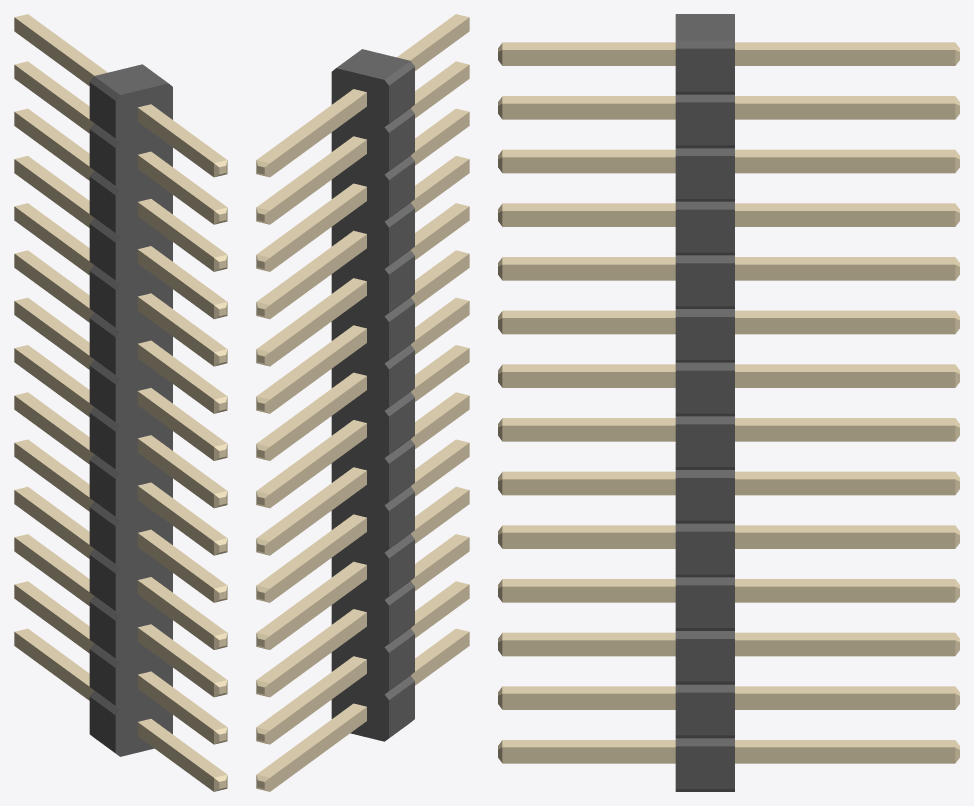
File: PinHeader_1x14_P1.00mm_Vertical.glb
3 renders of one model, left to right at view 1: azimuth 30°, elevation 25°; view 2: azimuth 150°, elevation 25°; view 3: azimuth 270°, elevation 25°, orthographic. The views are drawn at different scales.
Parts seen in each view (by area): view 1: Shape_IndexedFaceSet.003, Shape_IndexedFaceSet.001, Shape_IndexedFaceSet.160, Shape_IndexedFaceSet.104, Shape_IndexedFaceSet.155, Shape_IndexedFaceSet.179, Shape_IndexedFaceSet.197, Shape_IndexedFaceSet.147, Shape_IndexedFaceSet.167, Shape_IndexedFaceSet.169, Shape_IndexedFaceSet.180, Shape_IndexedFaceSet.184 (+60 smaller); view 2: Shape_IndexedFaceSet.004, Shape_IndexedFaceSet.160, Shape_IndexedFaceSet.167, Shape_IndexedFaceSet.147, Shape_IndexedFaceSet.151, Shape_IndexedFaceSet.155, Shape_IndexedFaceSet.157, Shape_IndexedFaceSet.169, Shape_IndexedFaceSet.172, Shape_IndexedFaceSet.179, Shape_IndexedFaceSet.180, Shape_IndexedFaceSet.184 (+60 smaller); view 3: Shape_IndexedFaceSet.174, Shape_IndexedFaceSet.145, Shape_IndexedFaceSet.149, Shape_IndexedFaceSet.159, Shape_IndexedFaceSet.162, Shape_IndexedFaceSet.171, Shape_IndexedFaceSet.177, Shape_IndexedFaceSet.182, Shape_IndexedFaceSet.186, Shape_IndexedFaceSet.191, Shape_IndexedFaceSet.194, Shape_IndexedFaceSet.153 (+59 smaller).
Part boxes in pixels (box(x1,y1,x2,y2)): Shape_IndexedFaceSet.003: box(115, 83, 172, 756); Shape_IndexedFaceSet.001: box(94, 64, 167, 94); Shape_IndexedFaceSet.160: box(14, 254, 93, 322); Shape_IndexedFaceSet.104: box(137, 344, 213, 413); Shape_IndexedFaceSet.155: box(14, 301, 93, 369); Shape_IndexedFaceSet.179: box(14, 584, 93, 653); Shape_IndexedFaceSet.197: box(14, 17, 93, 85); Shape_IndexedFaceSet.147: box(14, 443, 93, 511); Shape_IndexedFaceSet.167: box(14, 159, 93, 227); Shape_IndexedFaceSet.169: box(14, 206, 93, 275); Shape_IndexedFaceSet.180: box(14, 537, 93, 605); Shape_IndexedFaceSet.184: box(14, 490, 93, 558); Shape_IndexedFaceSet.004: box(331, 68, 388, 741); Shape_IndexedFaceSet.160: box(270, 329, 366, 413); Shape_IndexedFaceSet.167: box(270, 234, 366, 318); Shape_IndexedFaceSet.147: box(270, 518, 366, 602); Shape_IndexedFaceSet.151: box(270, 471, 366, 555); Shape_IndexedFaceSet.155: box(270, 376, 366, 460); Shape_IndexedFaceSet.157: box(270, 423, 366, 507); Shape_IndexedFaceSet.169: box(270, 281, 366, 366); Shape_IndexedFaceSet.172: box(270, 707, 366, 791); Shape_IndexedFaceSet.179: box(270, 660, 366, 744); Shape_IndexedFaceSet.180: box(270, 612, 366, 696); Shape_IndexedFaceSet.184: box(270, 565, 366, 649); Shape_IndexedFaceSet.174: box(735, 747, 955, 763); Shape_IndexedFaceSet.145: box(735, 532, 955, 548); Shape_IndexedFaceSet.149: box(735, 479, 955, 495); Shape_IndexedFaceSet.159: box(735, 425, 955, 441); Shape_IndexedFaceSet.162: box(735, 318, 955, 334); Shape_IndexedFaceSet.171: box(735, 264, 955, 280); Shape_IndexedFaceSet.177: box(735, 693, 955, 709); Shape_IndexedFaceSet.182: box(735, 640, 955, 656); Shape_IndexedFaceSet.186: box(735, 586, 955, 602); Shape_IndexedFaceSet.191: box(735, 103, 955, 119); Shape_IndexedFaceSet.194: box(735, 157, 955, 173); Shape_IndexedFaceSet.153: box(735, 372, 955, 387).
Bounding box in the file's own units: 0.5 × 5.51 × 3.07.
